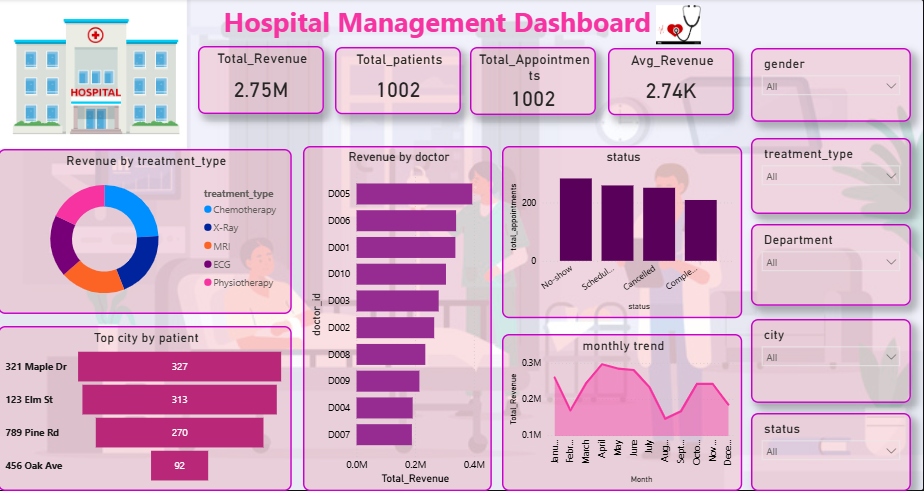

The page's visual inventory and layout, read from the dashboard file:
{"tool":"powerbi","page":{"name":"Page 1","canvas":[1280,680],"ordinal":0},"visuals":[{"type":"card","title":"Total_Revenue","fields":{"Values":["hospital hospital_management.Total_Revenue"]},"box":[276.4,65,174.1,94],"z":0},{"type":"slicer","fields":{"Values":["hospital hospital_management.city"]},"box":[1040.7,442.3,221.1,116.1],"z":1004},{"type":"card","title":"Total_Appointments","fields":{"Values":["hospital hospital_management.total_appointments"]},"box":[652.4,66.3,174.1,94],"z":1005},{"type":"card","title":"Total_patients","fields":{"Values":["hospital hospital_management.Total_patients"]},"box":[465.8,66.3,174.1,92.6],"z":1006},{"type":"card","title":"Avg_Revenue","fields":{"Values":["hospital hospital_management.Avg_revenue"]},"box":[843.1,67.7,174.1,92.6],"z":1007},{"type":"slicer","fields":{"Values":["hospital hospital_management.Department"]},"box":[1040.7,311,221.1,113.3],"z":1008},{"type":"slicer","fields":{"Values":["hospital hospital_management.treatment_type"]},"box":[1040.7,192.1,221.1,105],"z":1009},{"type":"slicer","fields":{"Values":["hospital hospital_management.status"]},"box":[1040.7,572.2,221.1,107.8],"z":1010},{"type":"slicer","fields":{"Values":["hospital hospital_management.gender"]},"box":[1040.7,67.7,221.1,102.3],"z":1011},{"type":"barChart","title":"Revenue by doctor","fields":{"Category":["hospital hospital_management.doctor_id"],"Y":["hospital hospital_management.Total_Revenue"]},"box":[421.5,203.2,261.2,476.8],"z":1012},{"type":"columnChart","title":" status","fields":{"Y":["hospital hospital_management.total_appointments"],"Category":["hospital hospital_management.status"]},"box":[696.6,203.2,331.7,237.7],"z":1013},{"type":"areaChart","title":"monthly trend","fields":{"Category":["hospital hospital_management.appointment_date.Variation.Date Hierarchy.Month"],"Y":["hospital hospital_management.Total_Revenue"]},"box":[696.6,463,331.7,217],"z":1015},{"type":"donutChart","title":"Revenue by treatment_type","fields":{"Category":["hospital hospital_management.treatment_type"],"Y":["hospital hospital_management.Total_Revenue"]},"box":[0,207.3,406.3,228],"z":1016},{"type":"funnel","title":"Top city by patient","fields":{"Category":["hospital hospital_management.city"],"Y":["CountNonNull(hospital hospital_management.patient_id)"]},"box":[0,452,406.3,228],"z":1017},{"type":"textbox","box":[306.8,0,779.5,81.5],"z":1018},{"type":"image","box":[0,0,262.6,207.3],"z":1020},{"type":"image","box":[909.4,5.5,62.2,59.4],"z":1021}]}

Visuals, with their boxes in screenshot pixels (x1, y1, x2, y2), scaled from the page's 1280x680 canvas onto the 924x491 screenshot:
"Total_Revenue" card: [x1=200, y1=47, x2=325, y2=115]
slicer - hospital hospital_management.city: [x1=751, y1=319, x2=911, y2=403]
"Total_Appointments" card: [x1=471, y1=48, x2=597, y2=116]
"Total_patients" card: [x1=336, y1=48, x2=462, y2=115]
"Avg_Revenue" card: [x1=609, y1=49, x2=734, y2=116]
slicer - hospital hospital_management.Department: [x1=751, y1=225, x2=911, y2=306]
slicer - hospital hospital_management.treatment_type: [x1=751, y1=139, x2=911, y2=215]
slicer - hospital hospital_management.status: [x1=751, y1=413, x2=911, y2=490]
slicer - hospital hospital_management.gender: [x1=751, y1=49, x2=911, y2=123]
"Revenue by doctor" barChart: [x1=304, y1=147, x2=493, y2=490]
" status" columnChart: [x1=503, y1=147, x2=742, y2=318]
"monthly trend" areaChart: [x1=503, y1=334, x2=742, y2=490]
"Revenue by treatment_type" donutChart: [x1=0, y1=150, x2=293, y2=314]
"Top city by patient" funnel: [x1=0, y1=326, x2=293, y2=490]
textbox: [x1=221, y1=0, x2=784, y2=59]
image: [x1=0, y1=0, x2=190, y2=150]
image: [x1=656, y1=4, x2=701, y2=47]
